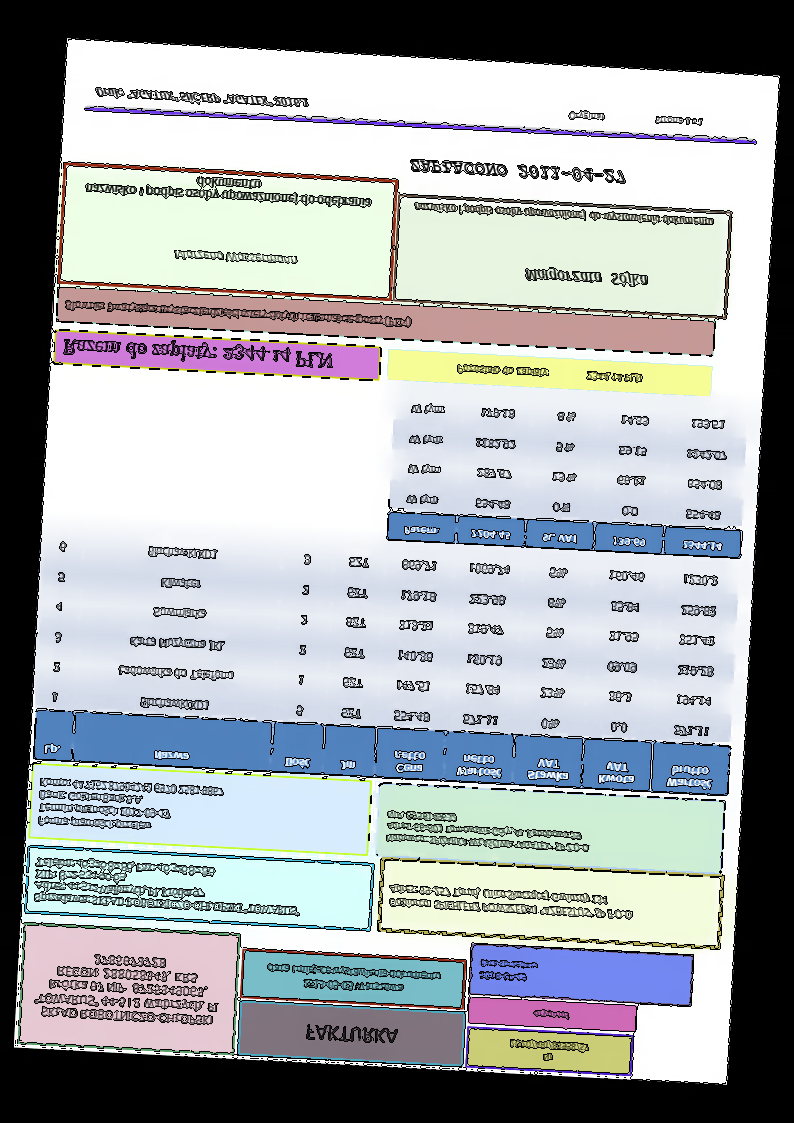Table: (31, 524, 742, 797), (385, 388, 749, 560)
TextBox: (31, 853, 303, 919), (31, 948, 225, 1029), (63, 295, 413, 332), (82, 169, 375, 212), (60, 334, 335, 377), (35, 776, 225, 838), (385, 879, 637, 924), (382, 806, 594, 857), (412, 200, 716, 231), (407, 155, 627, 186), (265, 962, 442, 997), (94, 86, 310, 112), (453, 360, 645, 388), (565, 107, 707, 132), (170, 245, 301, 270), (522, 266, 649, 291), (507, 1036, 592, 1068), (302, 1021, 401, 1048), (477, 956, 539, 986), (531, 1006, 571, 1023)
